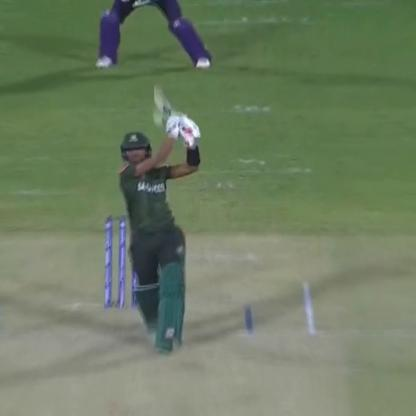bat: (148, 79, 199, 146)
pitch: (0, 268, 343, 416)
